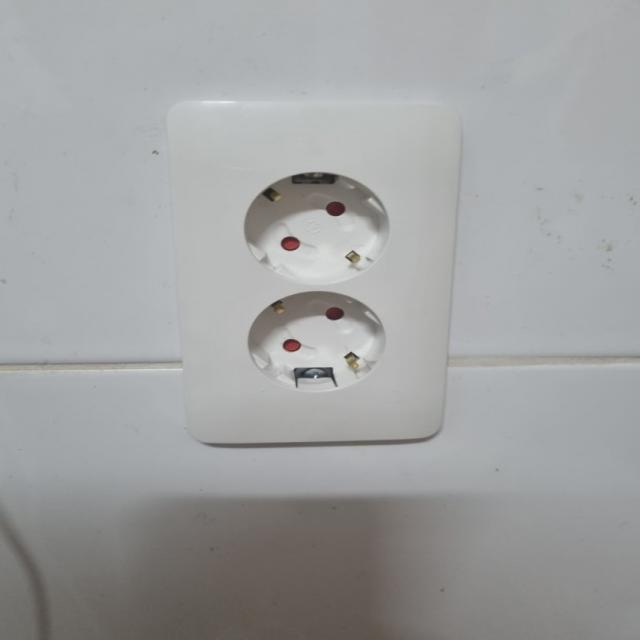typeb: (138, 50, 554, 535)
